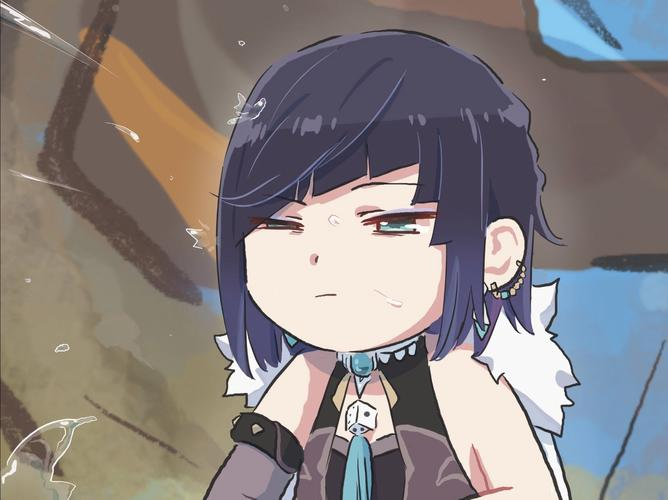夜兰: (194, 28, 569, 500)
